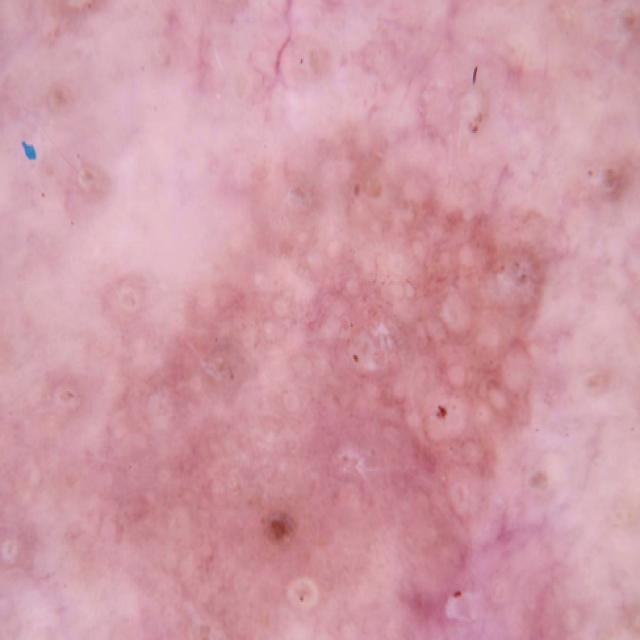Carcinoma: (395, 503, 621, 640)
